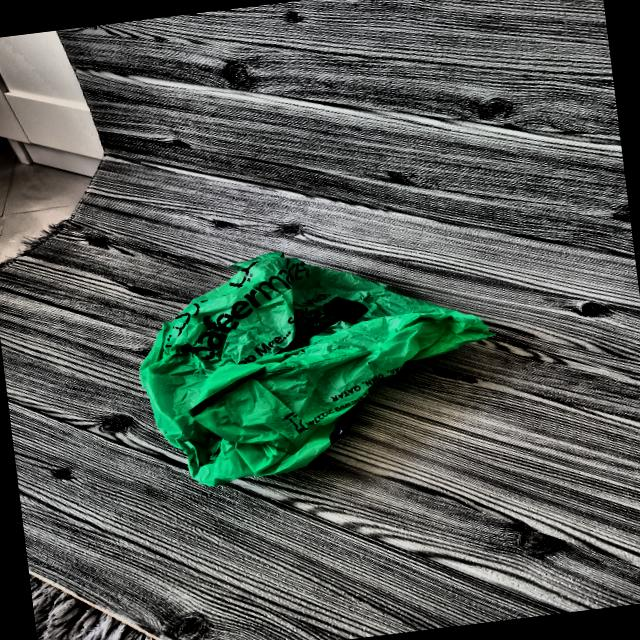plastic bag: (101, 204, 537, 522)
